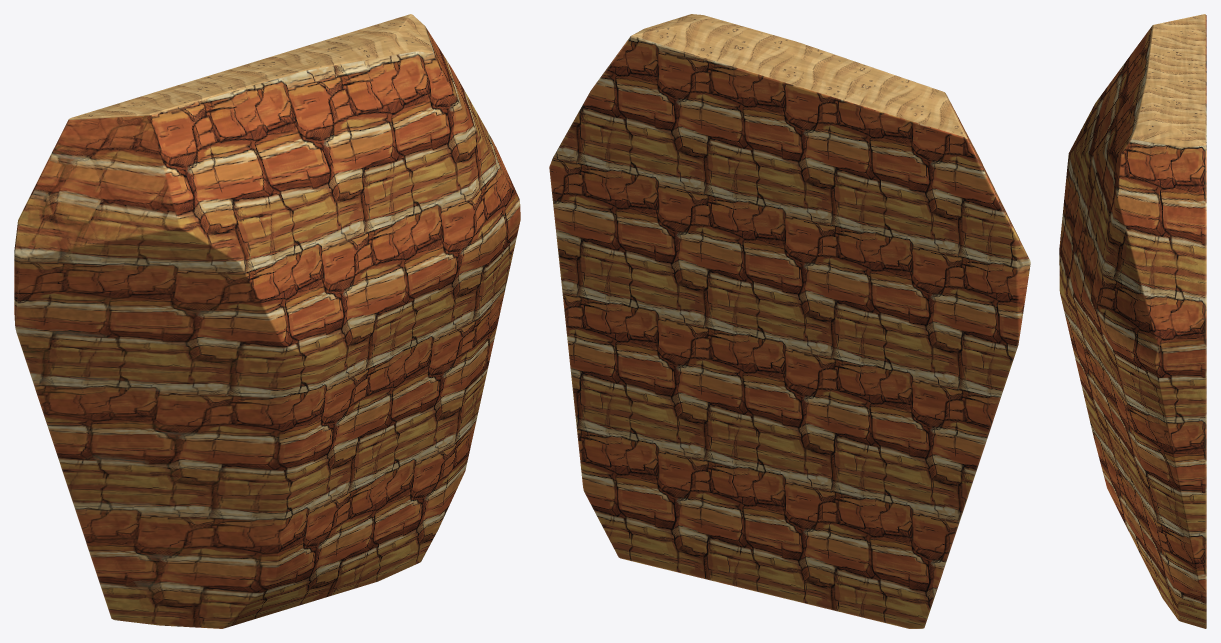
The model's file is v4_cliff_w_03.glb.
The picture shows the model from 3 angles, left to right: view 1: azimuth 30°, elevation 25°; view 2: azimuth 150°, elevation 25°; view 3: azimuth 270°, elevation 25°; orthographic projection. The views are drawn at different scales.
Parts seen in each view (by area): view 1: v4_cliff_w_03; view 2: v4_cliff_w_03; view 3: v4_cliff_w_03.
Boxes of the visible parts, x1,y1,x2,y2 form: v4_cliff_w_03: [14, 14, 520, 628]; v4_cliff_w_03: [549, 14, 1030, 628]; v4_cliff_w_03: [1059, 14, 1206, 628].
Size of the model in its own units: 7.49 by 8 by 2.2.
1 material, 1 textured.
